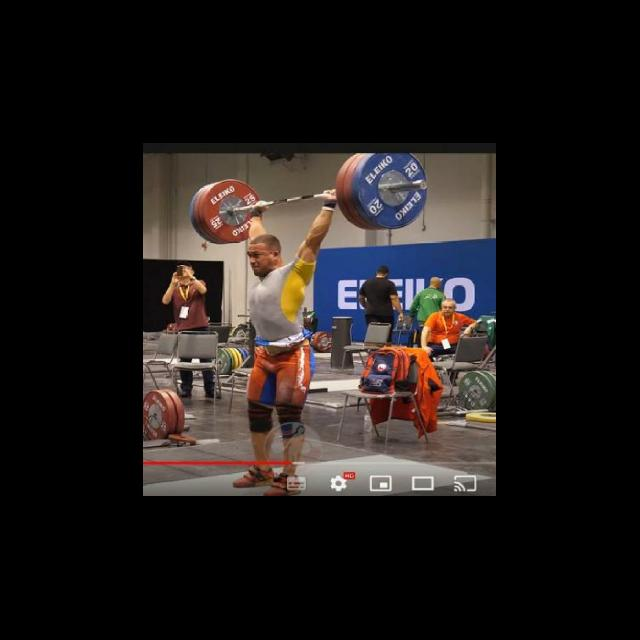barbell: (352, 143, 432, 234)
